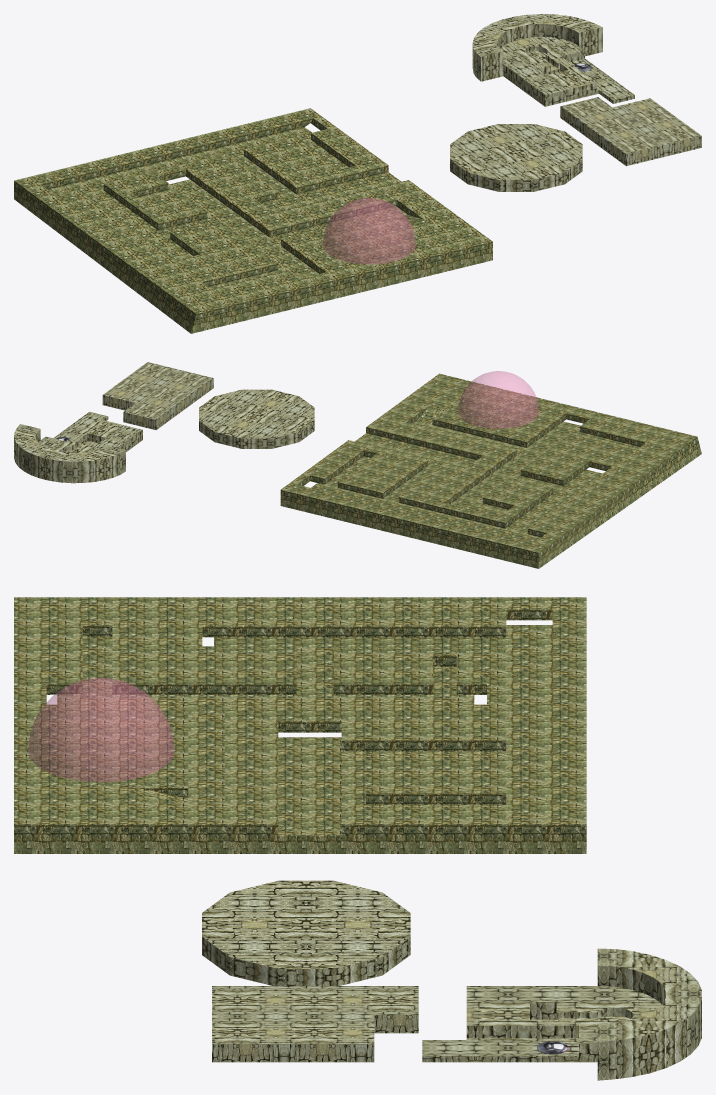
The model's file is trapped.gltf.
3 views of the same model, one above another, from view 1: azimuth 30°, elevation 25°; view 2: azimuth 150°, elevation 25°; view 3: azimuth 270°, elevation 25° (orthographic). The views are drawn at different scales.
Visible parts, largest first — view 1: Plane.001-col, Circle-col, Plane-col-col, Cube-col, Sphere, Cube.001-col; view 2: Plane.001-col, Circle-col, Plane-col-col, Cube.001-col, Sphere, Cube-col; view 3: Plane.001-col, Circle-col, Plane-col-col, Cube-col, Sphere, Cube.001-col.
Boxes of the visible parts, x1,y1,x2,y2 form: Plane.001-col: [14, 108, 492, 333]; Circle-col: [450, 124, 582, 191]; Plane-col-col: [560, 97, 701, 166]; Cube-col: [500, 37, 634, 106]; Sphere: [323, 198, 415, 263]; Cube.001-col: [472, 14, 602, 81]; Plane.001-col: [280, 373, 701, 568]; Circle-col: [199, 389, 314, 448]; Plane-col-col: [102, 362, 213, 429]; Cube.001-col: [14, 424, 125, 483]; Sphere: [458, 371, 538, 428]; Cube-col: [38, 412, 142, 452]; Plane.001-col: [14, 597, 586, 853]; Circle-col: [202, 880, 410, 985]; Plane-col-col: [212, 986, 418, 1062]; Cube-col: [422, 986, 661, 1062]; Sphere: [28, 678, 174, 781]; Cube.001-col: [597, 948, 701, 1080].
Bounding box in the file's own units: 295 × 28.82 × 187.
Materials: 4 (3 with a texture image).
